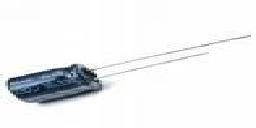Electrolytic-capacitor: (5, 35, 255, 106)
